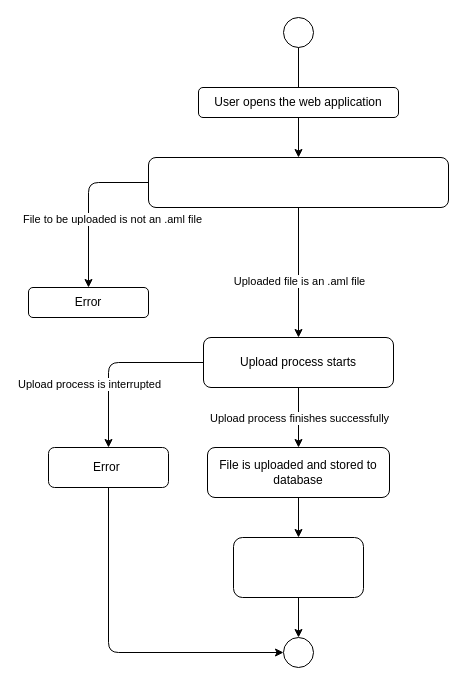
This 466x685 diagram has some shape labels left out. Here are the shapes that lost their labels. From the top down, the centre of each, then its label:
the point at 298,182: User presses the "upload" function and selects an AML file to upload
the point at 298,567: Result of storing operation is displayed
